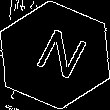N_SW: (23, 23, 87, 87)
